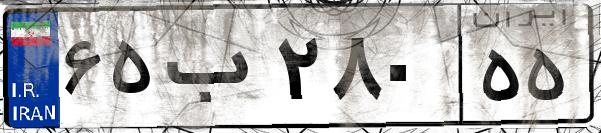0: (385, 28, 445, 110)
2: (270, 28, 330, 110)
5: (475, 38, 525, 113), (525, 38, 570, 115), (110, 28, 158, 98)
6: (57, 26, 110, 100)
8: (330, 28, 385, 110)
ب: (158, 20, 270, 120)
